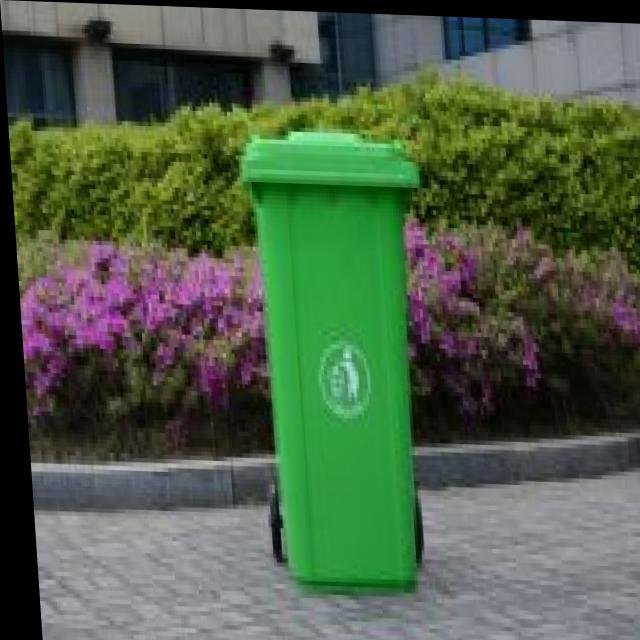garbage_bin: (232, 123, 433, 587)
